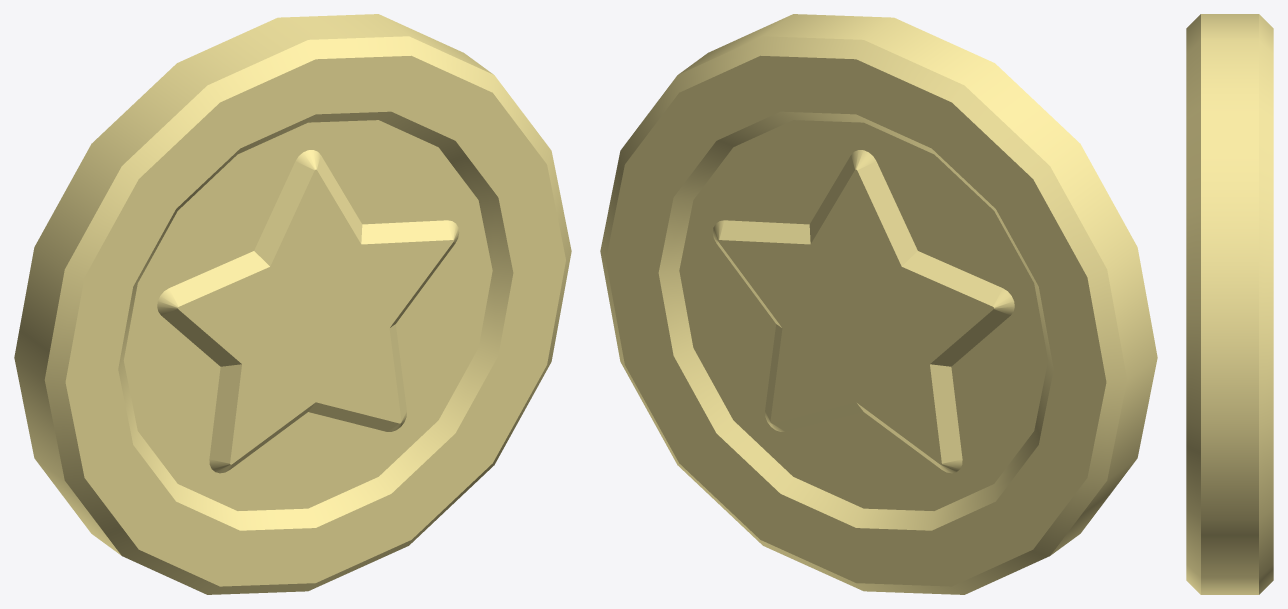
File: coin.glb
The picture shows the model from 3 angles, left to right: view 1: azimuth 30°, elevation 25°; view 2: azimuth 150°, elevation 25°; view 3: azimuth 270°, elevation 25°; orthographic projection. The views are drawn at different scales.
Visible parts, largest first — view 1: Star; view 2: Star; view 3: Star.
Part boxes in pixels (left/top/right/bottom): Star: left=14, top=14, right=571, bottom=594; Star: left=600, top=14, right=1157, bottom=594; Star: left=1186, top=14, right=1273, bottom=594.
Bounding box in the file's own units: 1 × 1 × 0.15.
